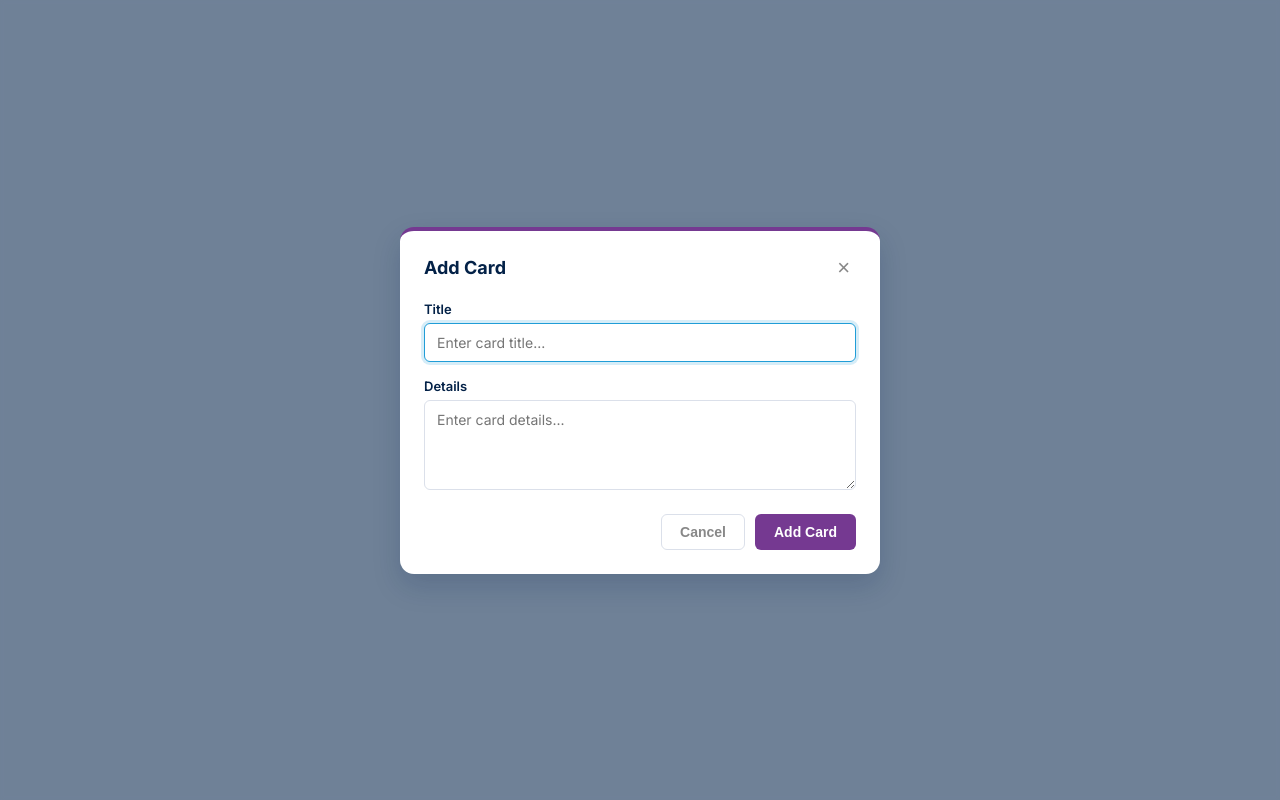
CardModal Component › displays error when submitting with empty title
Click the button "Add Card" at (806, 532), box left=755, top=514, right=856, bottom=550
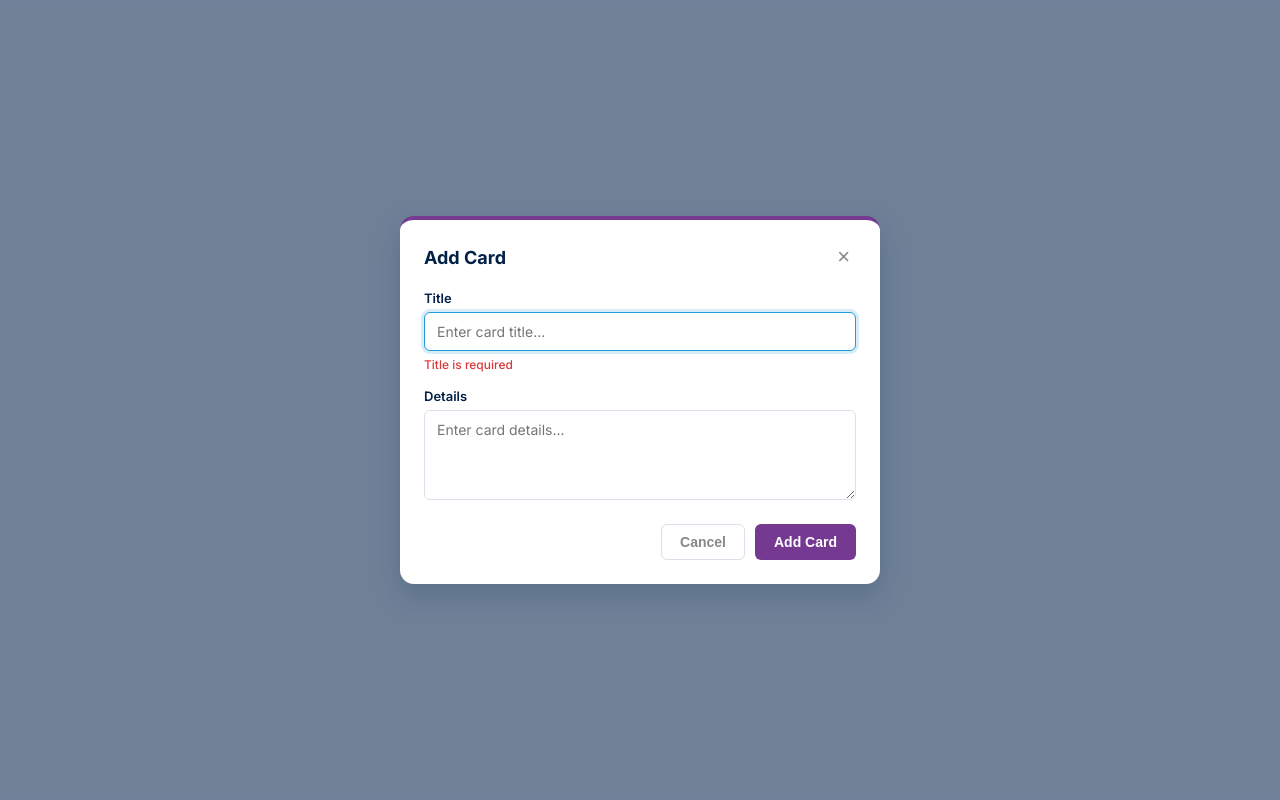
expect the text "Title is required" is shown: met, box left=424, top=357, right=513, bottom=372
